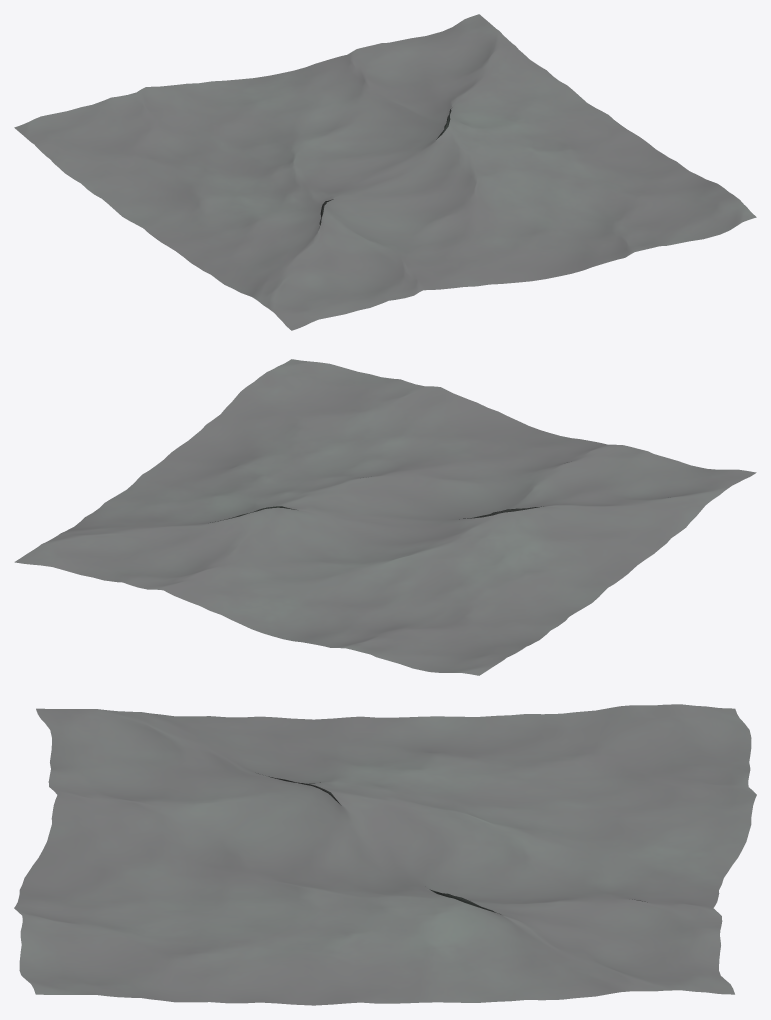
File: sea.obj
3 views of the same model, one above another, from view 1: azimuth 30°, elevation 25°; view 2: azimuth 150°, elevation 25°; view 3: azimuth 270°, elevation 25° (orthographic). The views are drawn at different scales.
Parts seen in each view (by area): view 1: Mesh1 Water_Wave_0_2 Water_Wave_0_1 Water_Wave_0 Water RootNode ; view 2: Mesh1 Water_Wave_0_2 Water_Wave_0_1 Water_Wave_0 Water RootNode ; view 3: Mesh1 Water_Wave_0_2 Water_Wave_0_1 Water_Wave_0 Water RootNode .
Boxes of the visible parts, x1,y1,x2,y2 form: Mesh1 Water_Wave_0_2 Water_Wave_0_1 Water_Wave_0 Water RootNode : (14,14,756,330); Mesh1 Water_Wave_0_2 Water_Wave_0_1 Water_Wave_0 Water RootNode : (15,359,756,675); Mesh1 Water_Wave_0_2 Water_Wave_0_1 Water_Wave_0 Water RootNode : (14,704,756,1005).
Size of the model in its own units: 7.45 by 0.2463 by 7.97.
Materials: 1 (1 with a texture image).
